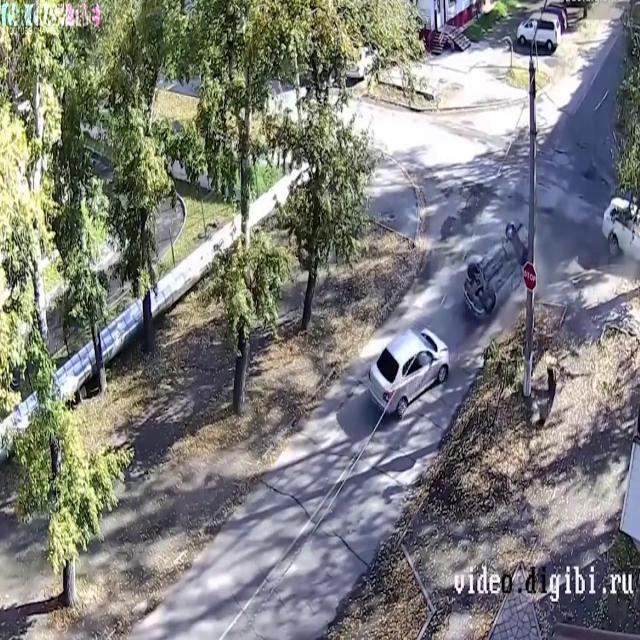accident: (363, 211, 537, 433)
